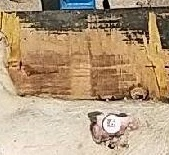text: (94, 107, 131, 141)
